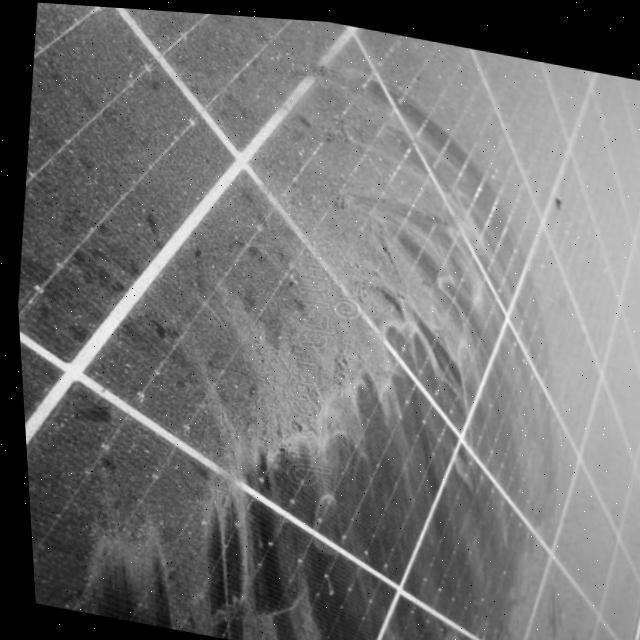Surface Contaminant: (14, 2, 640, 640)
